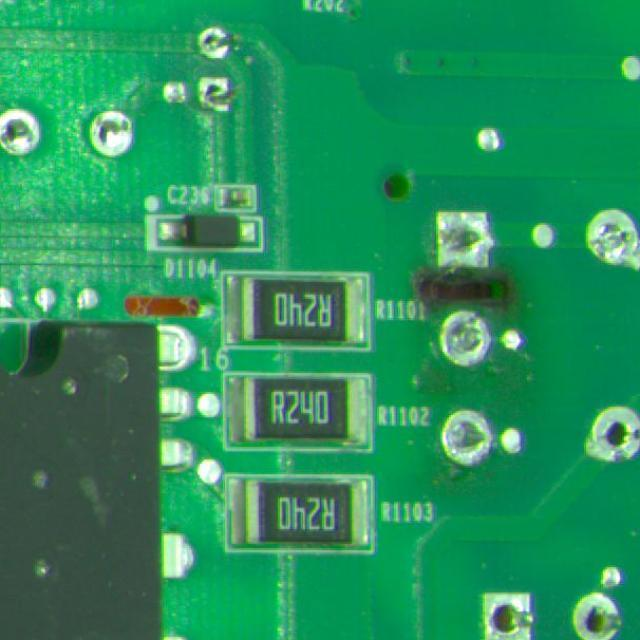Insufficient solder: (426, 198, 500, 290), (436, 402, 498, 477), (583, 202, 640, 282), (577, 404, 640, 475), (468, 580, 541, 640), (433, 309, 498, 374), (564, 582, 630, 640), (82, 108, 144, 162), (0, 98, 45, 157), (194, 70, 243, 122), (193, 22, 240, 64)
